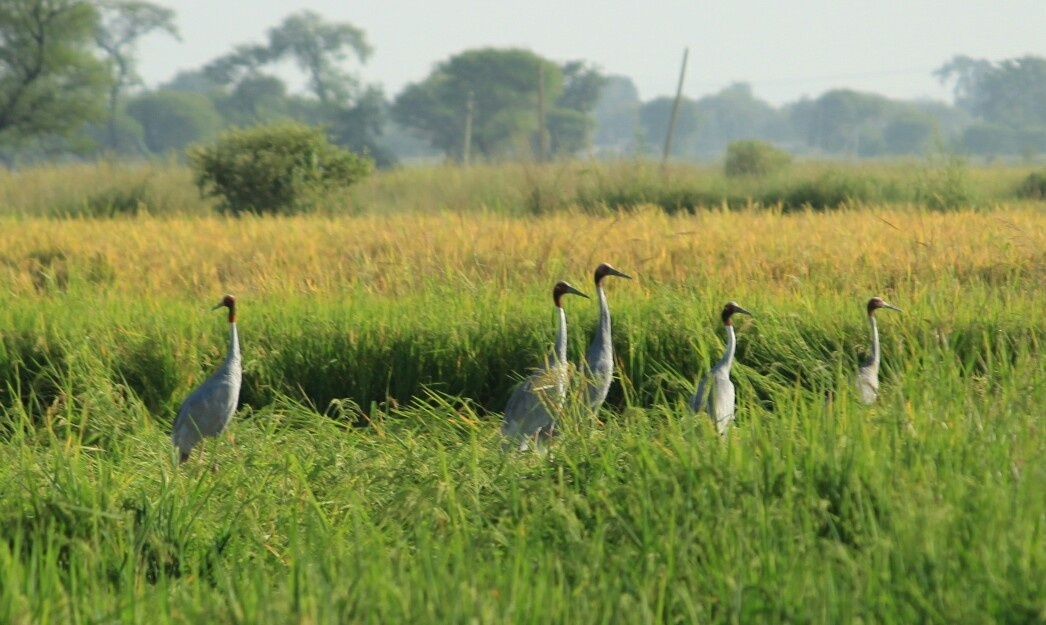crane: (168, 289, 253, 467), (509, 278, 592, 444), (692, 300, 759, 435), (590, 257, 634, 412), (850, 293, 907, 403)
